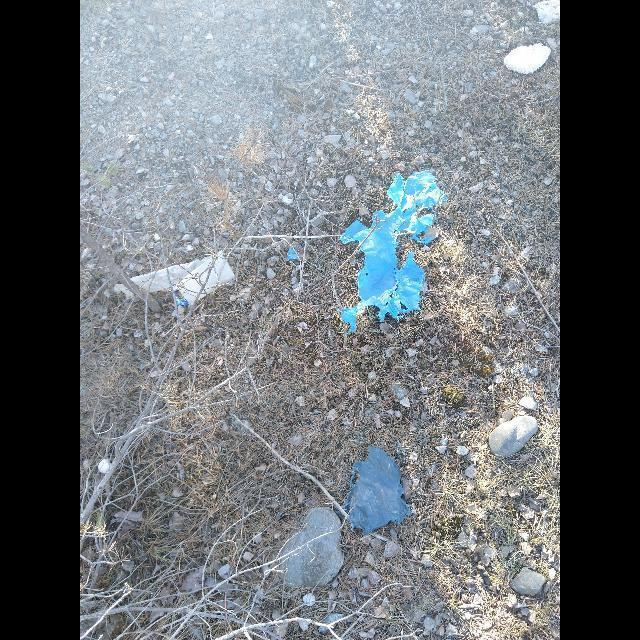Plastic: (338, 170, 448, 332), (342, 446, 411, 536), (130, 252, 236, 306)
